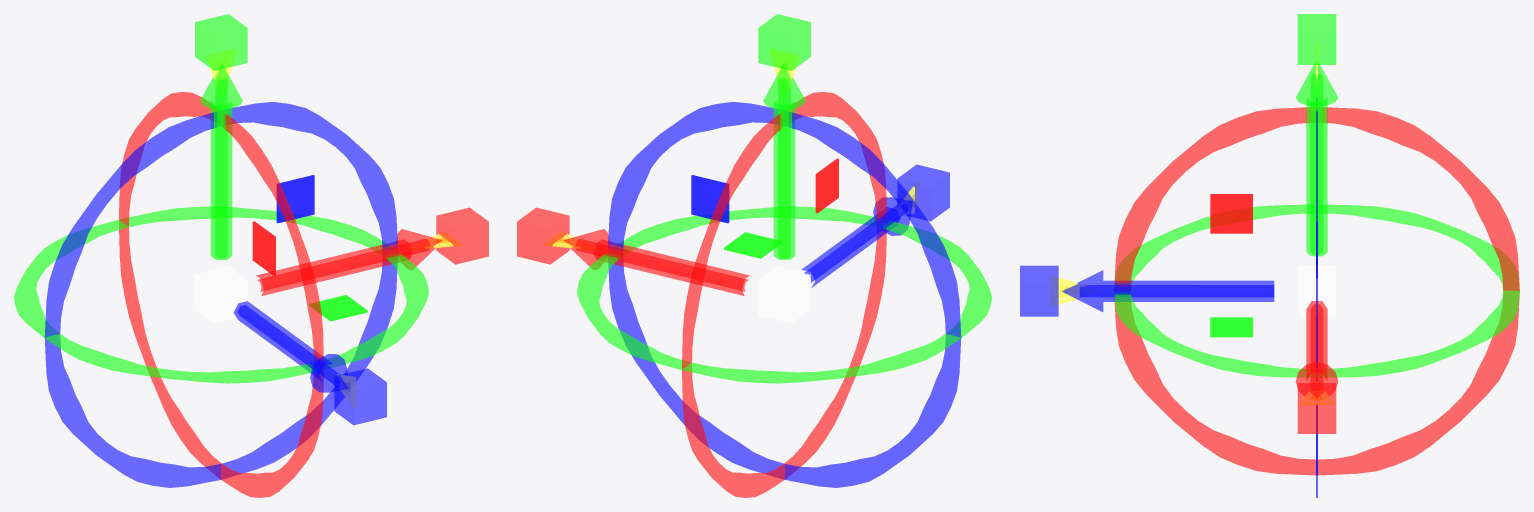
The model's file is TransformGizmo.glb.
3 views of the same model, side by side, from view 1: azimuth 30°, elevation 25°; view 2: azimuth 150°, elevation 25°; view 3: azimuth 270°, elevation 25° (orthographic).
Visible parts, largest first — view 1: RotateZAxisDisk, RotateXAxisDisk, RotateYAxisDisk, TranslateYAxis, TranslateXAxis, TranslateZAxis, ScaleYAxis, ScaleZAxis, ScaleUniformHandle, ScaleXAxis, ScaleYAxisStick, ScaleXAxisStick (+8 smaller); view 2: RotateZAxisDisk, RotateXAxisDisk, RotateYAxisDisk, TranslateYAxis, TranslateXAxis, TranslateZAxis, ScaleYAxis, ScaleUniformHandle, ScaleXAxis, ScaleZAxis, ScaleYAxisStick, ScaleXAxisStick (+8 smaller); view 3: RotateXAxisDisk, RotateYAxisDisk, TranslateZAxis, TranslateYAxis, TranslateXAxis, ScaleZAxisStick, ScaleXAxis, ScaleYAxis, ScaleZAxis, ScaleUniformHandle, ScaleYAxisStick, TranslateYZPlane (+6 smaller).
Part boxes in pixels (x1,y1,x2,y2): RotateZAxisDisk: (44,102,397,487); RotateXAxisDisk: (119,92,323,497); RotateYAxisDisk: (14,206,428,383); TranslateYAxis: (200,65,242,259); TranslateXAxis: (256,229,442,295); TranslateZAxis: (234,301,347,392); ScaleYAxis: (195,14,247,70); ScaleZAxis: (334,368,386,424); ScaleUniformHandle: (195,266,247,323); ScaleXAxis: (436,207,488,264); ScaleYAxisStick: (215,79,227,257); ScaleXAxisStick: (257,239,429,291); RotateZAxisDisk: (608,102,961,487); RotateXAxisDisk: (682,92,886,497); RotateYAxisDisk: (577,206,991,383); TranslateYAxis: (763,65,805,259); TranslateXAxis: (563,229,749,295); TranslateZAxis: (802,197,912,287); ScaleYAxis: (758,14,810,70); ScaleUniformHandle: (758,266,810,323); ScaleXAxis: (517,207,569,264); ScaleZAxis: (897,164,949,221); ScaleYAxisStick: (778,79,790,257); ScaleXAxisStick: (576,239,748,291); RotateXAxisDisk: (1114,107,1519,475); RotateYAxisDisk: (1114,204,1519,377); TranslateZAxis: (1062,270,1274,311); TranslateYAxis: (1296,62,1337,256); TranslateXAxis: (1295,301,1338,397); ScaleZAxisStick: (1080,285,1273,296); ScaleXAxis: (1297,383,1336,433); ScaleYAxis: (1297,14,1336,64); ScaleZAxis: (1020,265,1058,316); ScaleUniformHandle: (1297,265,1336,316); ScaleYAxisStick: (1311,74,1322,254); TranslateYZPlane: (1210,194,1252,233).
Size of the model in its own units: 2.34 by 2.34 by 2.34.
